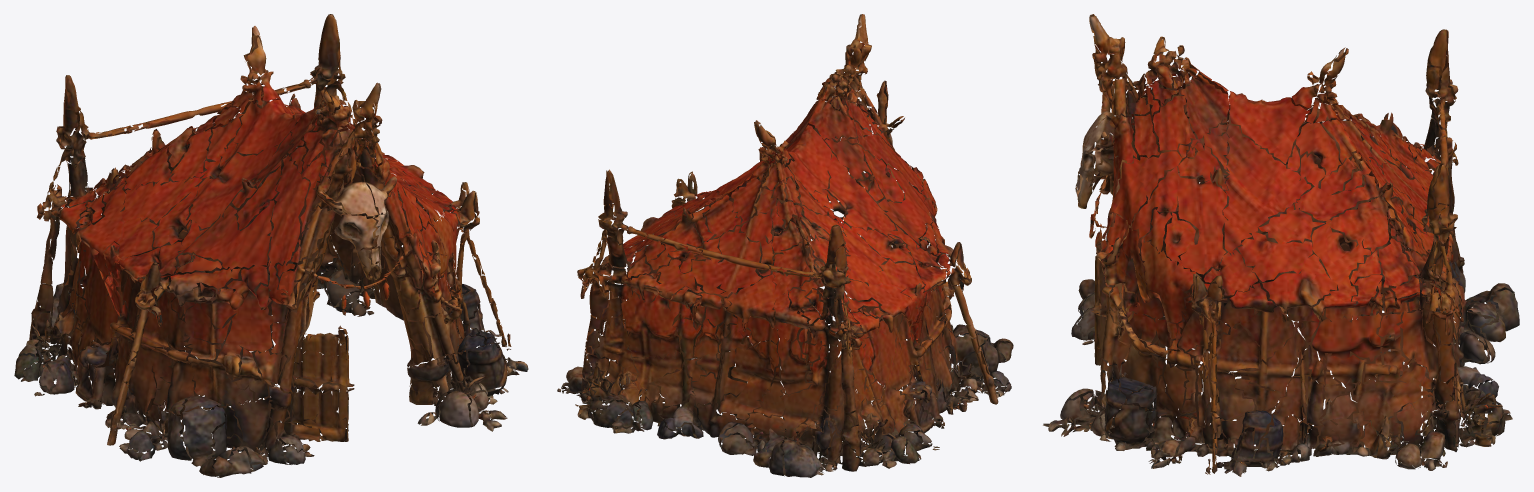
File: goblin_tent.glb
3 renders of one model, left to right at view 1: azimuth 30°, elevation 25°; view 2: azimuth 150°, elevation 25°; view 3: azimuth 270°, elevation 25°, orthographic. The views are drawn at different scales.
Bounding box in the file's own units: 1.87 × 1.54 × 1.82.
Materials: 1 (1 with a texture image).
